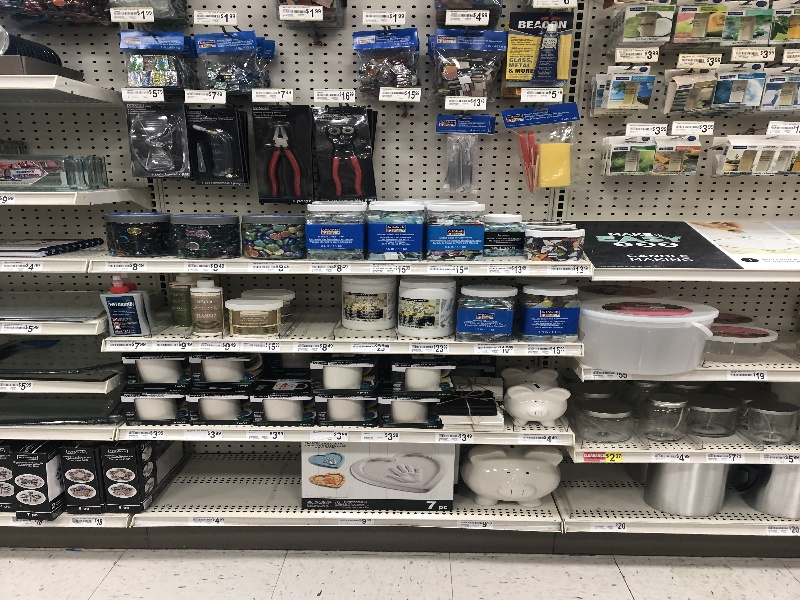void: (142, 452, 302, 504), (1, 278, 109, 318), (573, 462, 649, 513)
